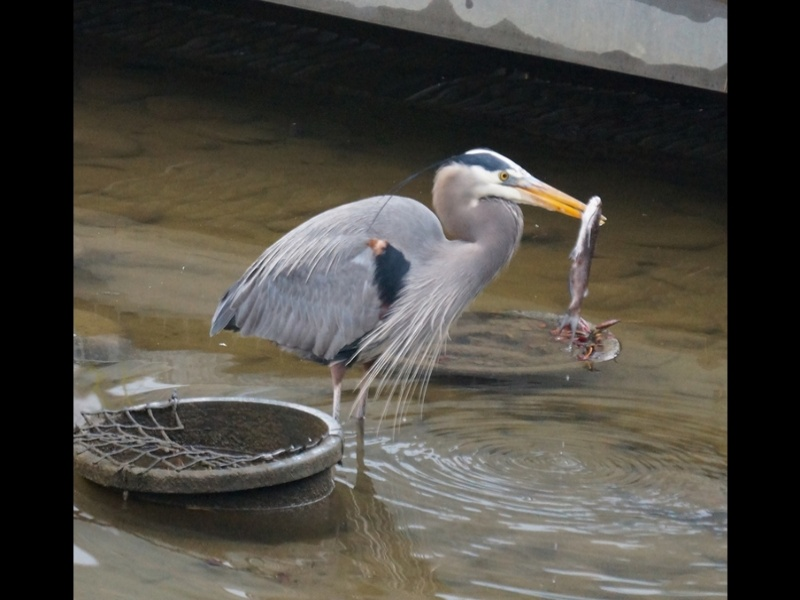heron: (208, 141, 615, 491)
